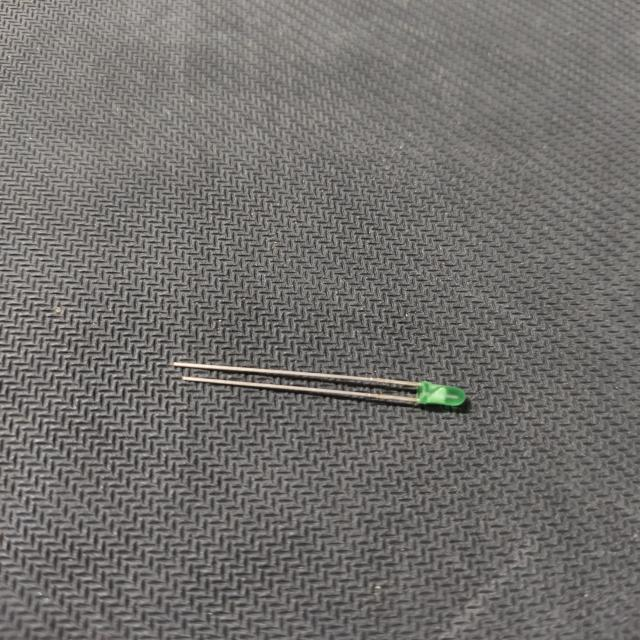led: (171, 361, 469, 413)
